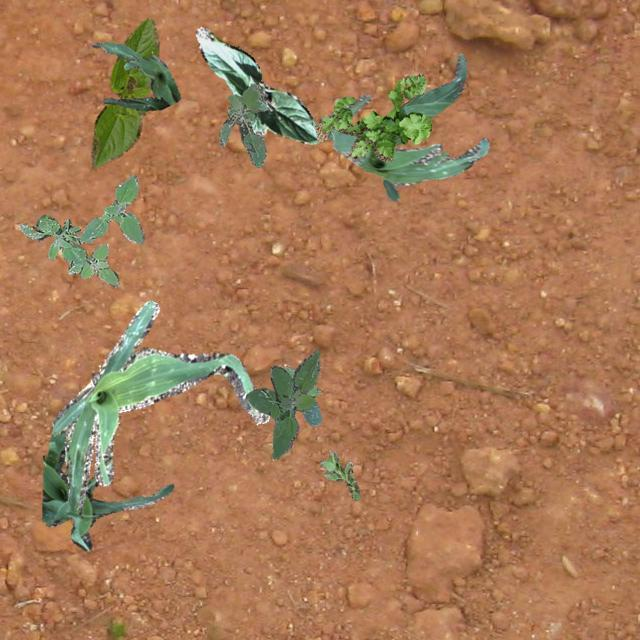crop: (50, 300, 268, 514), (329, 94, 488, 200), (41, 432, 172, 550), (195, 26, 318, 142), (326, 52, 466, 144), (90, 18, 158, 168), (90, 42, 178, 110)
weed: (17, 174, 144, 286), (314, 72, 431, 160), (244, 348, 320, 458), (218, 84, 268, 166), (320, 450, 358, 500), (284, 364, 320, 396)
